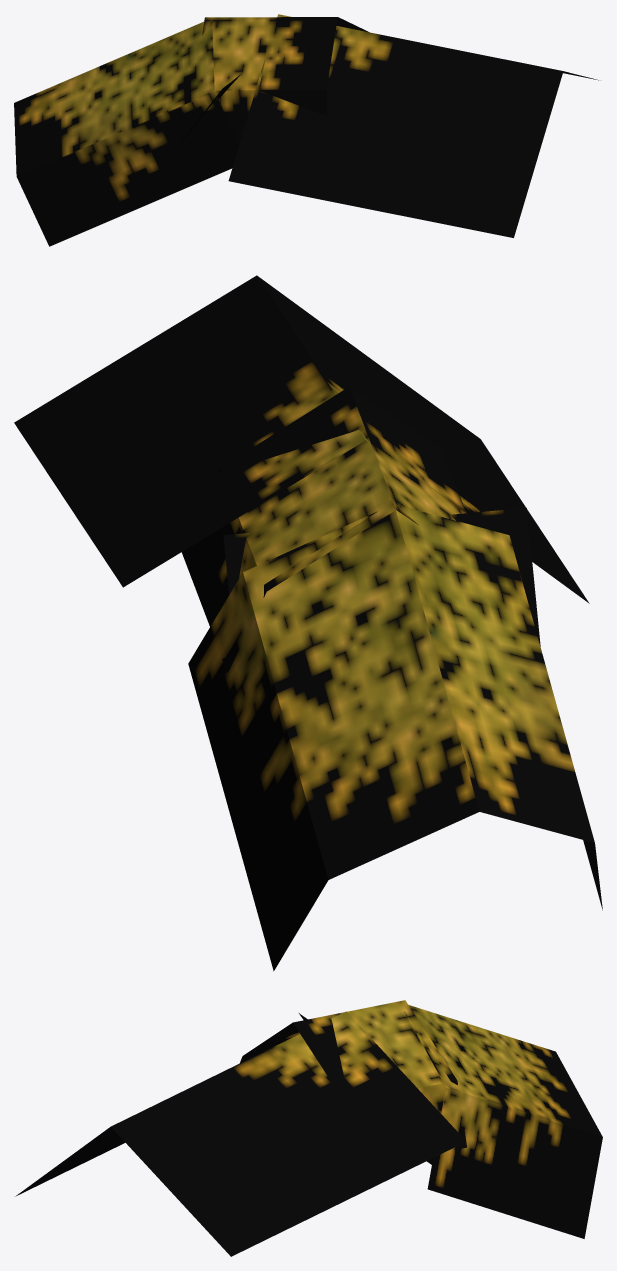
File: larch_leaves_slab_diagonal.obj
3 renders of one model, top to bottom at view 1: azimuth 30°, elevation 25°; view 2: azimuth 150°, elevation 25°; view 3: azimuth 270°, elevation 25°, orthographic. The views are drawn at different scales.
Parts seen in each view (by area): view 1: plane; view 2: plane, cube; view 3: plane.
Boxes of the visible parts, x1=… form: plane: x1=14, y1=14, x2=598, y2=246; plane: x1=14, y1=275, x2=602, y2=971; cube: x1=223, y1=508, x2=540, y2=646; plane: x1=15, y1=1000, x2=602, y2=1256.
Bounding box in the file's own units: 2.74 × 1.34 × 2.73.
